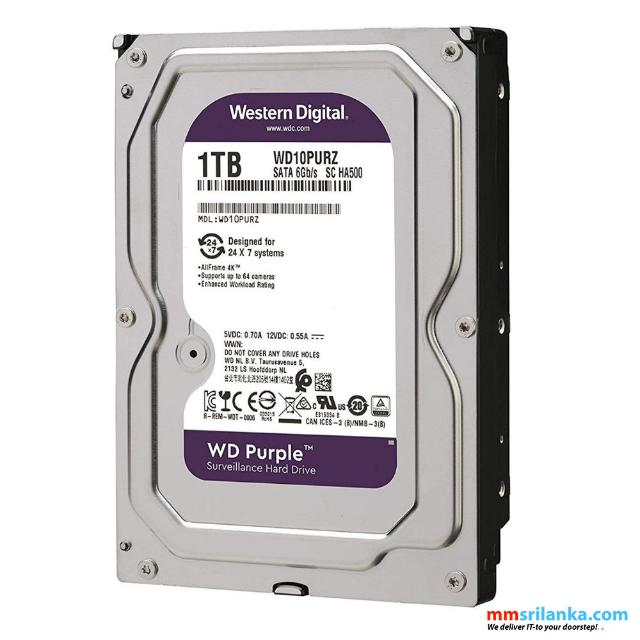HDD: (111, 27, 513, 610)
